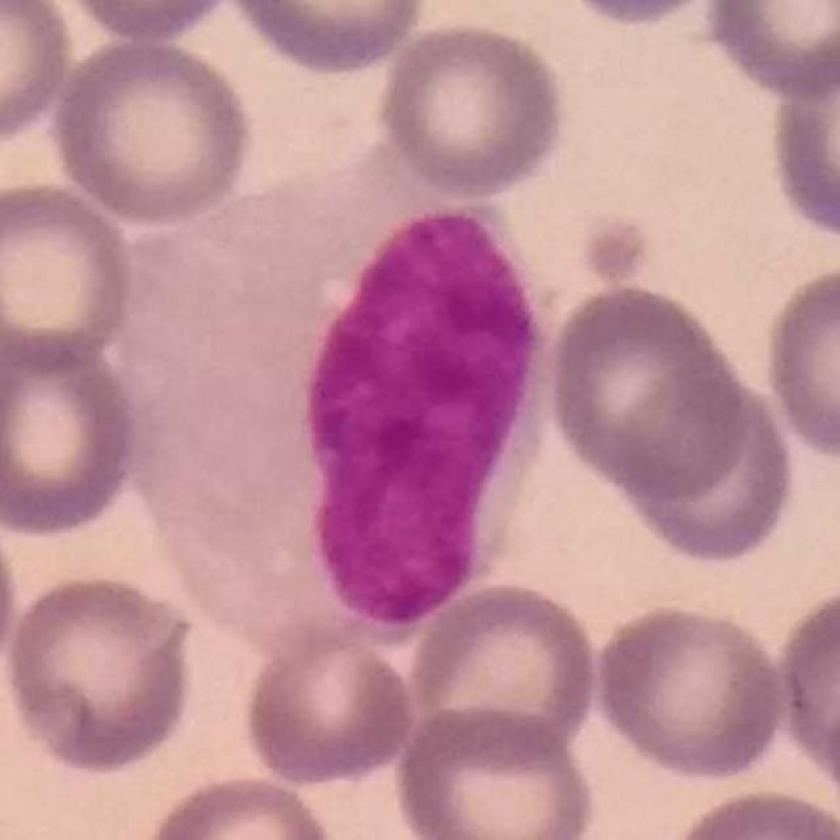monocyte: (111, 148, 568, 664)
